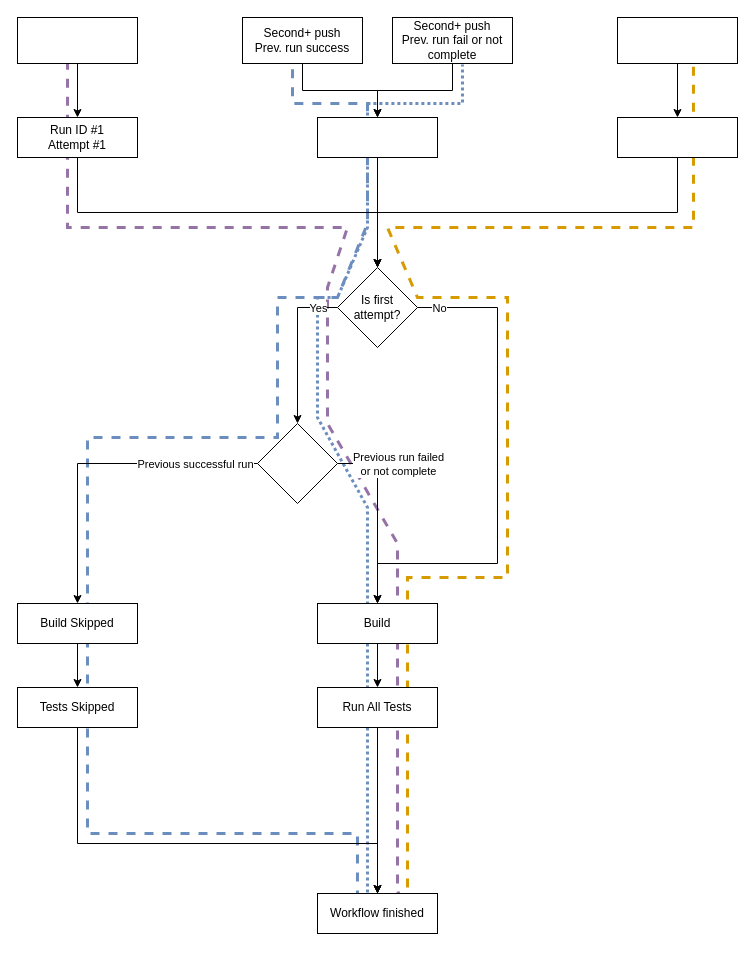
This 755x959 diagram has some shape labels left out. Each missing label, with the centre of its shape:
"Check previous test runs" goes at [297,463].
"First push (PR Opened)" goes at [77,40].
"Manual Workflow rerun" goes at [677,40].
"Run ID #2+ Attempt #1" goes at [377,137].
"Run ID #x Attempt #2+" goes at [677,137].
